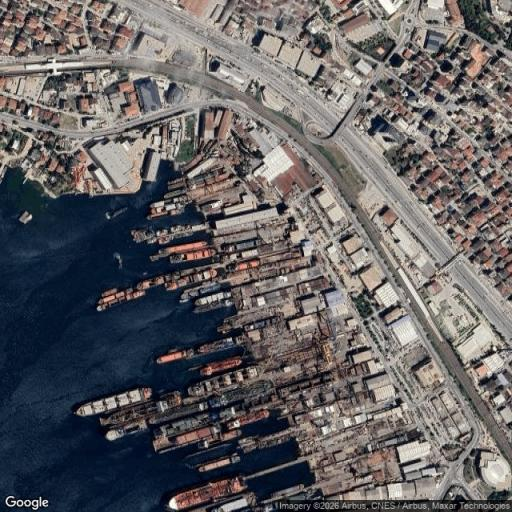ship: (100, 392, 181, 427), (167, 477, 246, 511), (153, 425, 239, 452), (188, 367, 258, 396), (76, 388, 151, 415), (209, 380, 273, 407), (153, 412, 211, 439), (148, 402, 208, 425), (165, 269, 217, 291), (97, 288, 145, 311), (150, 241, 207, 260), (239, 432, 291, 452), (157, 224, 207, 244), (148, 196, 185, 219), (105, 420, 147, 440), (227, 410, 269, 429), (180, 283, 219, 303), (197, 453, 240, 471), (200, 357, 242, 375), (196, 337, 239, 354), (170, 248, 215, 262), (194, 298, 234, 313), (195, 291, 231, 306), (156, 349, 194, 363), (136, 275, 165, 289), (131, 228, 156, 243), (106, 207, 127, 219), (19, 211, 32, 224)
